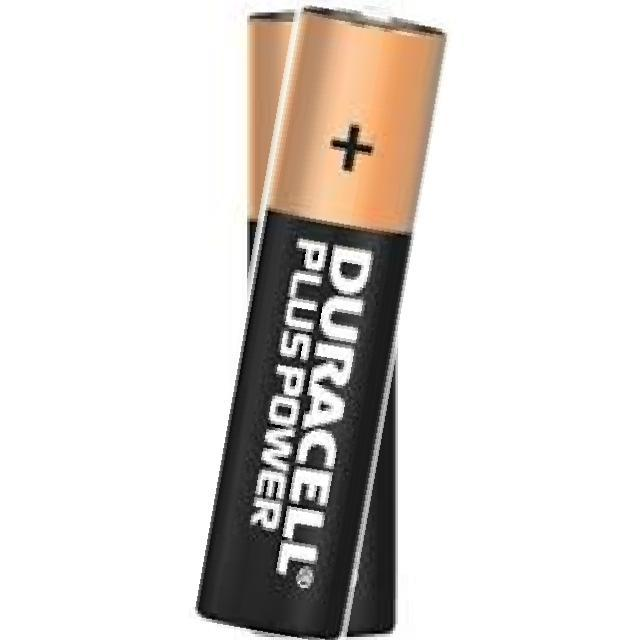Battery: (193, 10, 454, 639), (243, 9, 298, 284), (351, 358, 399, 636)
